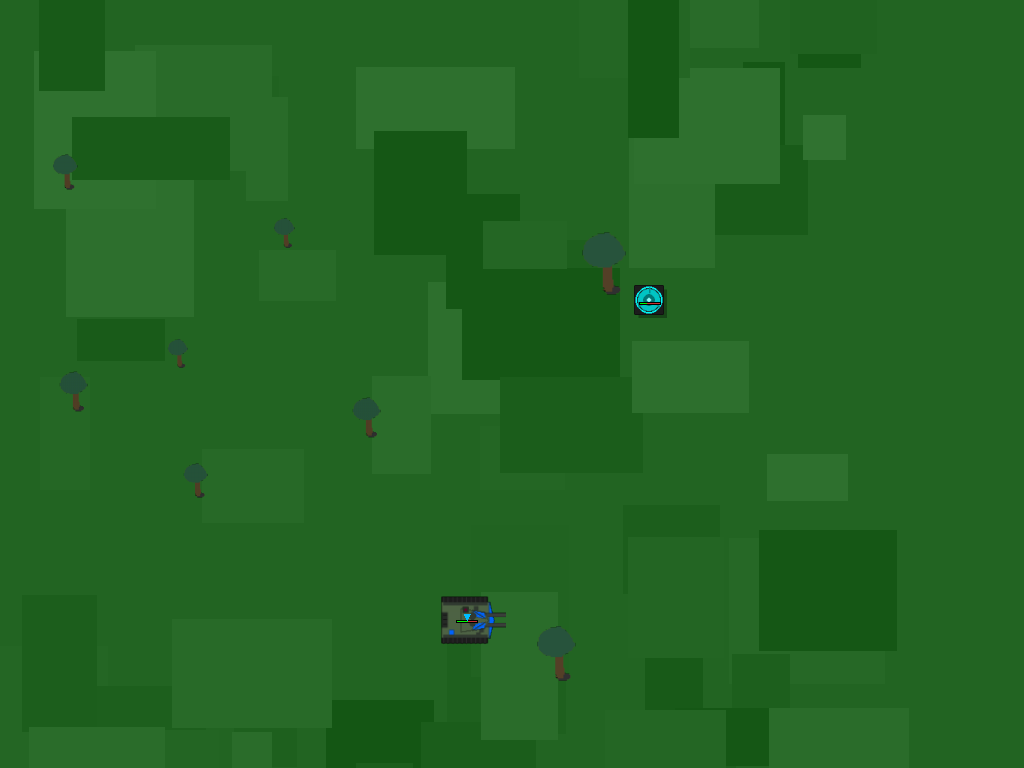LaserTurret: (625, 276, 675, 326)
Type99: (440, 591, 494, 645)
